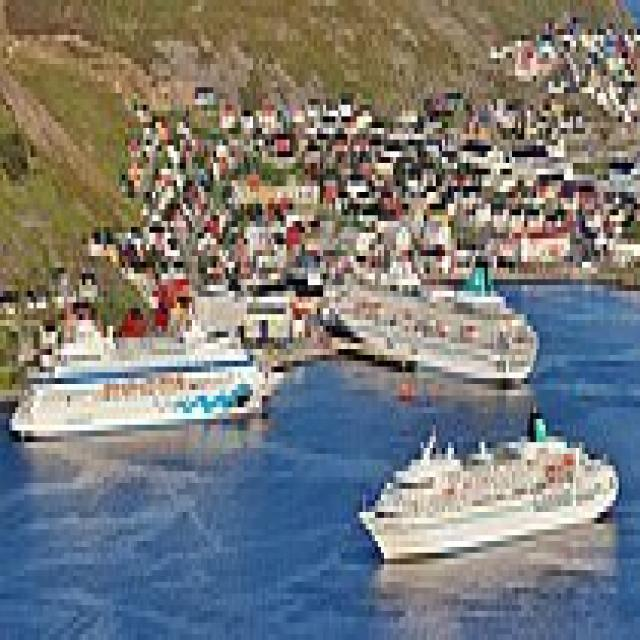Ship: (4, 292, 294, 461), (354, 408, 629, 571)
